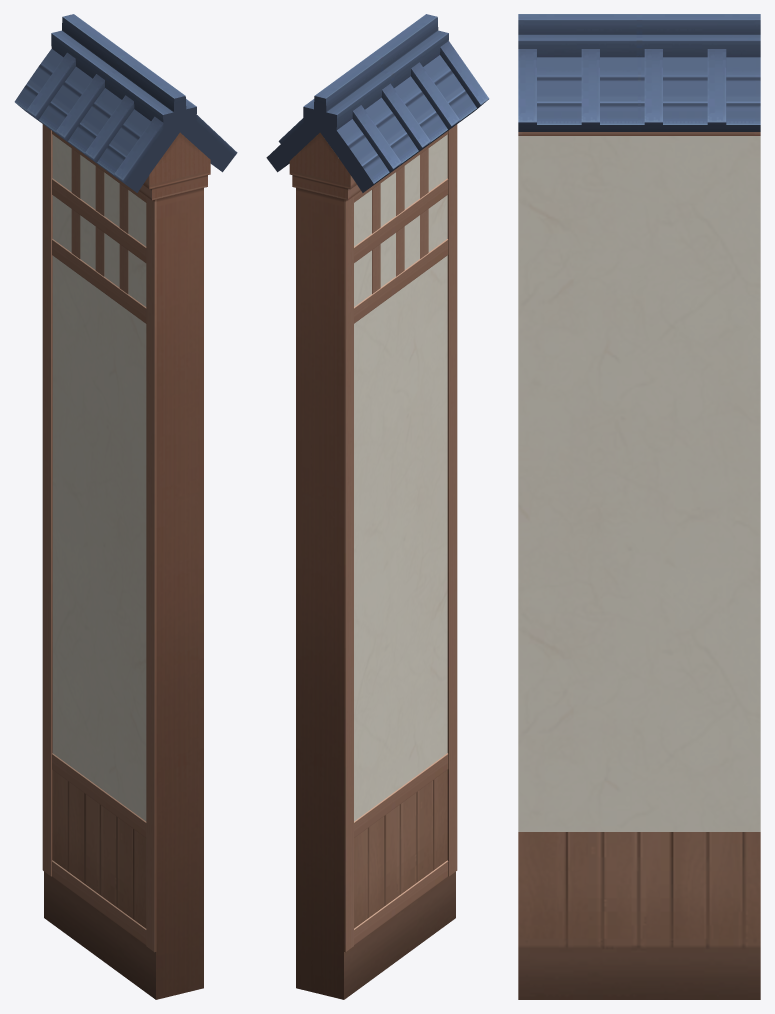
The model's file is my_hotsprings_01_wall_right.glb.
3 views of the same model, side by side, from view 1: azimuth 30°, elevation 25°; view 2: azimuth 150°, elevation 25°; view 3: azimuth 270°, elevation 25° (orthographic). The views are drawn at different scales.
Visible parts, largest first — view 1: my_hotsprings_01_wall_right; view 2: my_hotsprings_01_wall_right; view 3: my_hotsprings_01_wall_right.
Part boxes in pixels (left/top/right/bottom): my_hotsprings_01_wall_right: left=14, top=14, right=237, bottom=999; my_hotsprings_01_wall_right: left=266, top=14, right=489, bottom=999; my_hotsprings_01_wall_right: left=518, top=14, right=760, bottom=999.
Bounding box in the file's own units: 0.00713 × 0.0531 × 0.012.
Materials: 1 (1 with a texture image).
